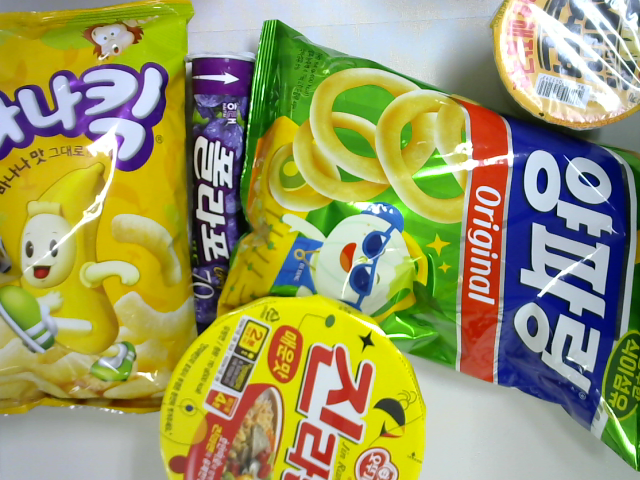Banana_Kick: (1, 1, 219, 426)
Hejangmini: (488, 1, 640, 132)
Jinlamyeon_Hot_Taste_Large_Cup: (158, 294, 428, 480)
Oninon_Ring: (215, 16, 640, 475)
Polapo_Grape: (180, 47, 258, 342)
